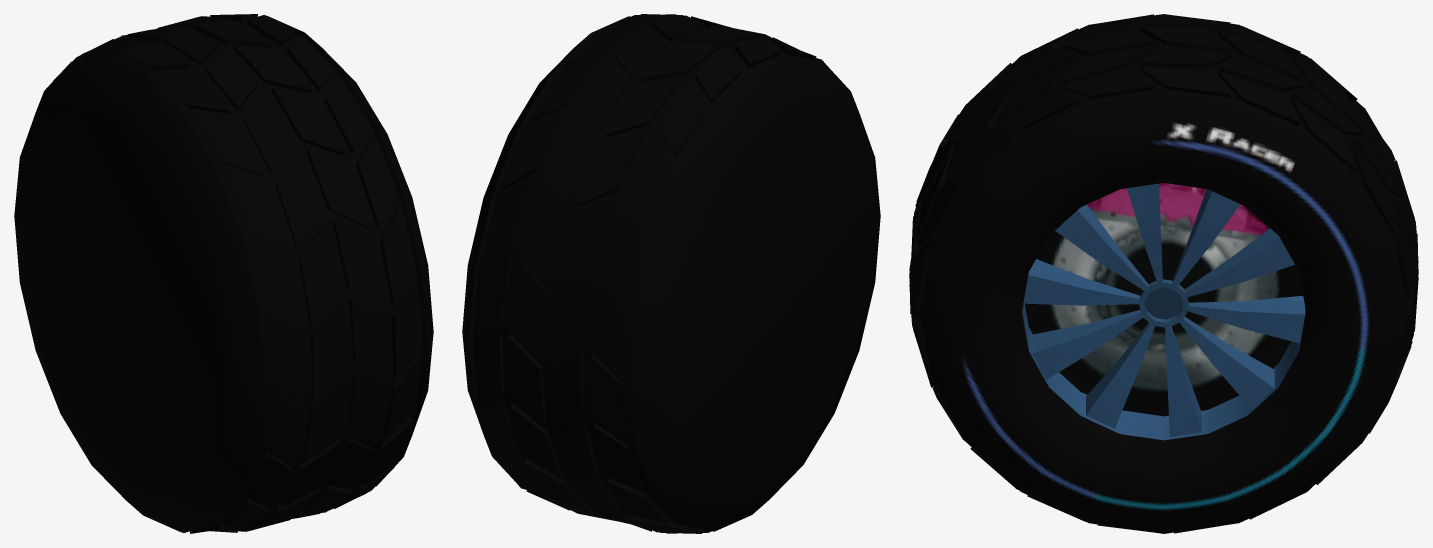
The model's file is Media.fbx.
3 renders of one model, left to right at view 1: azimuth 30°, elevation 25°; view 2: azimuth 150°, elevation 25°; view 3: azimuth 270°, elevation 25°, orthographic.
Visible parts, largest first — view 1: Rodas_frente.002; view 2: Rodas_frente.002; view 3: Rodas_frente.002.
Part boxes in pixels (left/top/right/bottom): Rodas_frente.002: left=14, top=14, right=433, bottom=533; Rodas_frente.002: left=462, top=14, right=880, bottom=533; Rodas_frente.002: left=909, top=14, right=1418, bottom=533.
Size of the model in its own units: 33.01 by 70.51 by 70.51.
